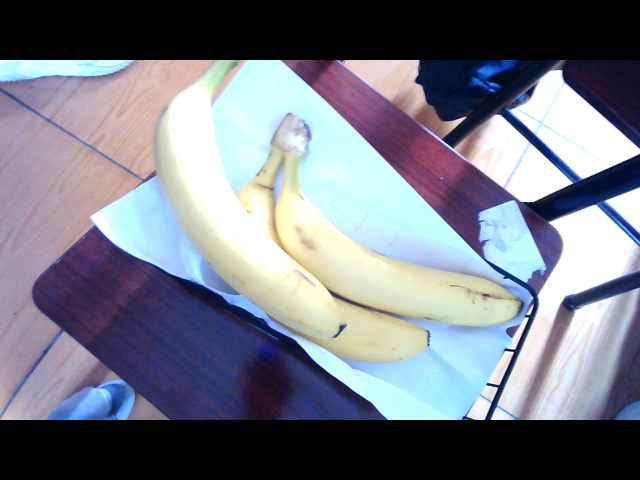banana: (159, 94, 515, 359)
